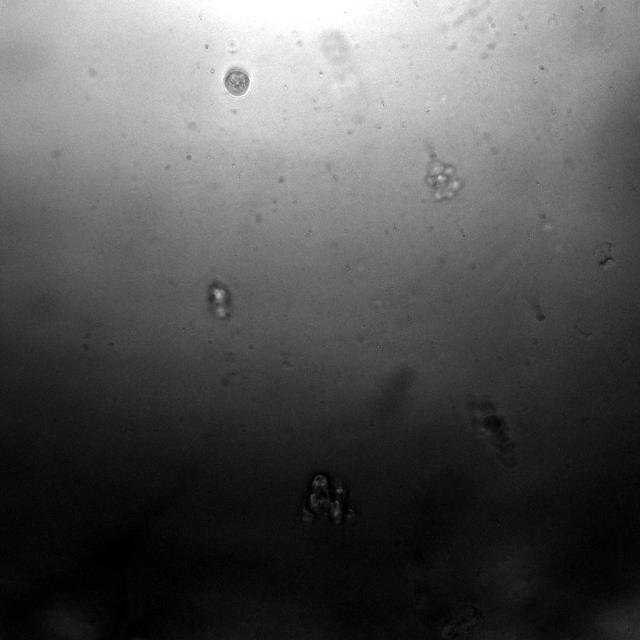organoid: (467, 398, 517, 467), (302, 473, 355, 524), (426, 158, 461, 200), (208, 281, 232, 318), (222, 68, 251, 98), (594, 242, 618, 268), (534, 310, 545, 321)
